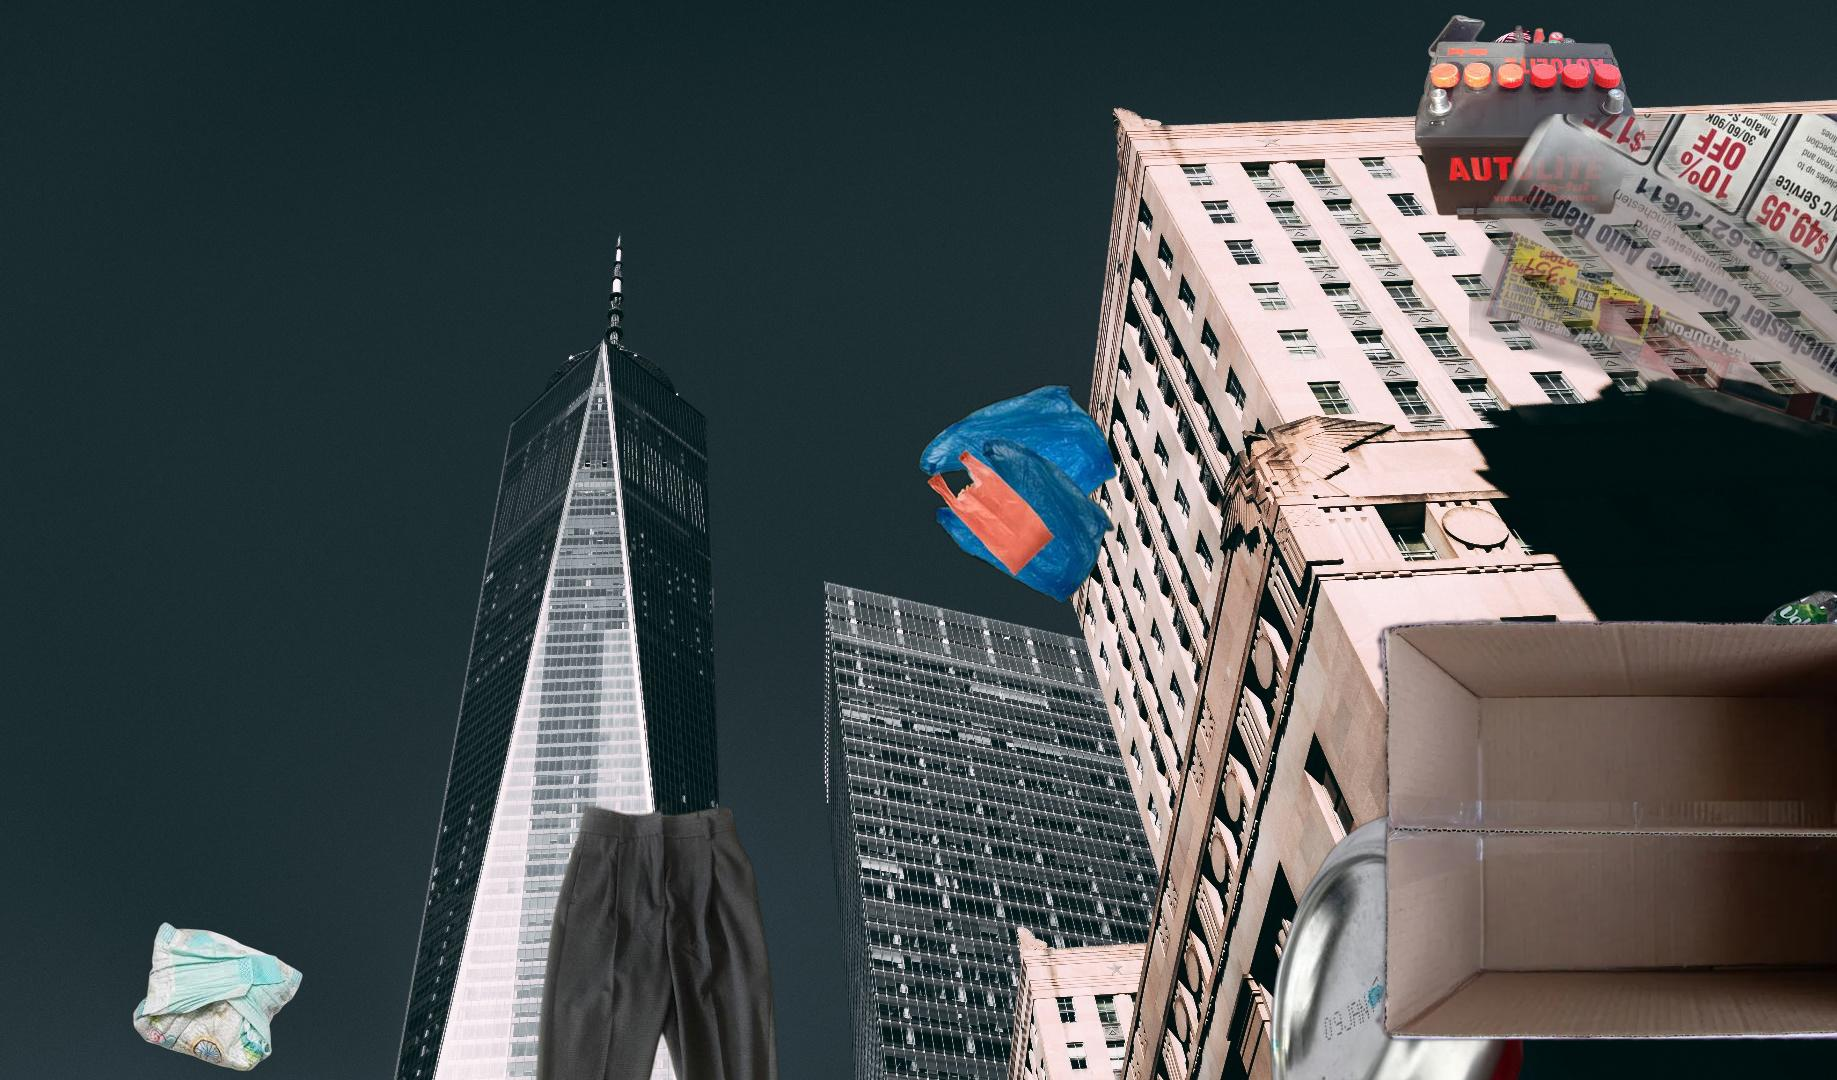battery: (1415, 6, 1640, 222)
clothes: (522, 795, 807, 1080)
metal-cans: (1265, 811, 1573, 1080)
paper: (1469, 114, 1837, 498)
plastic-bag: (917, 383, 1118, 606)
plastic-bottles: (1696, 549, 1837, 759)
trash: (130, 919, 306, 1074)
trashbox-cardboard: (1370, 566, 1837, 1050)
